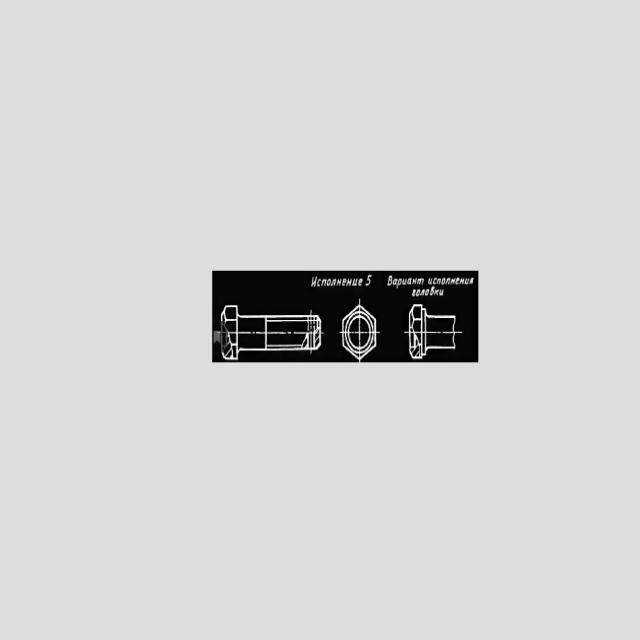numeric: (364, 274, 372, 286)
